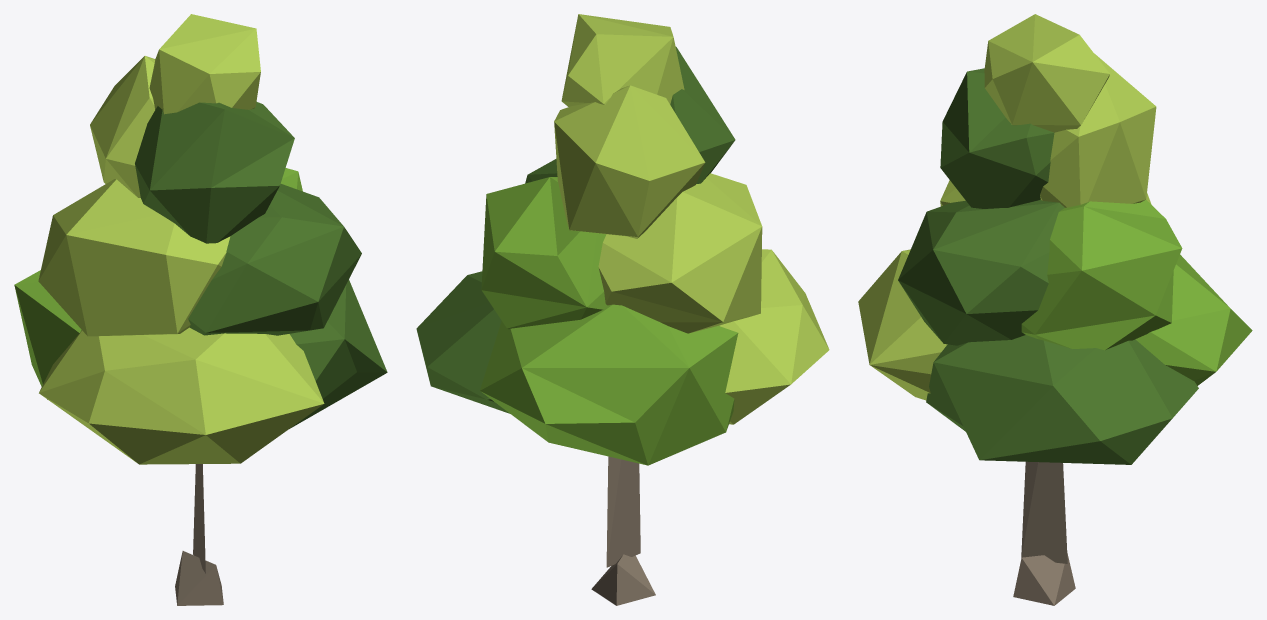
The model's file is tree_beech_3_lod1.glb.
3 renders of one model, left to right at view 1: azimuth 30°, elevation 25°; view 2: azimuth 150°, elevation 25°; view 3: azimuth 270°, elevation 25°, orthographic.
Parts seen in each view (by area): view 1: tree_beech_3_lod1; view 2: tree_beech_3_lod1; view 3: tree_beech_3_lod1.
Part boxes in pixels (<box>): tree_beech_3_lod1: <box>14,14,387,605</box>; tree_beech_3_lod1: <box>416,14,829,605</box>; tree_beech_3_lod1: <box>858,14,1252,605</box>.
Bounding box in the file's own units: 6.81 × 10.77 × 6.85.
